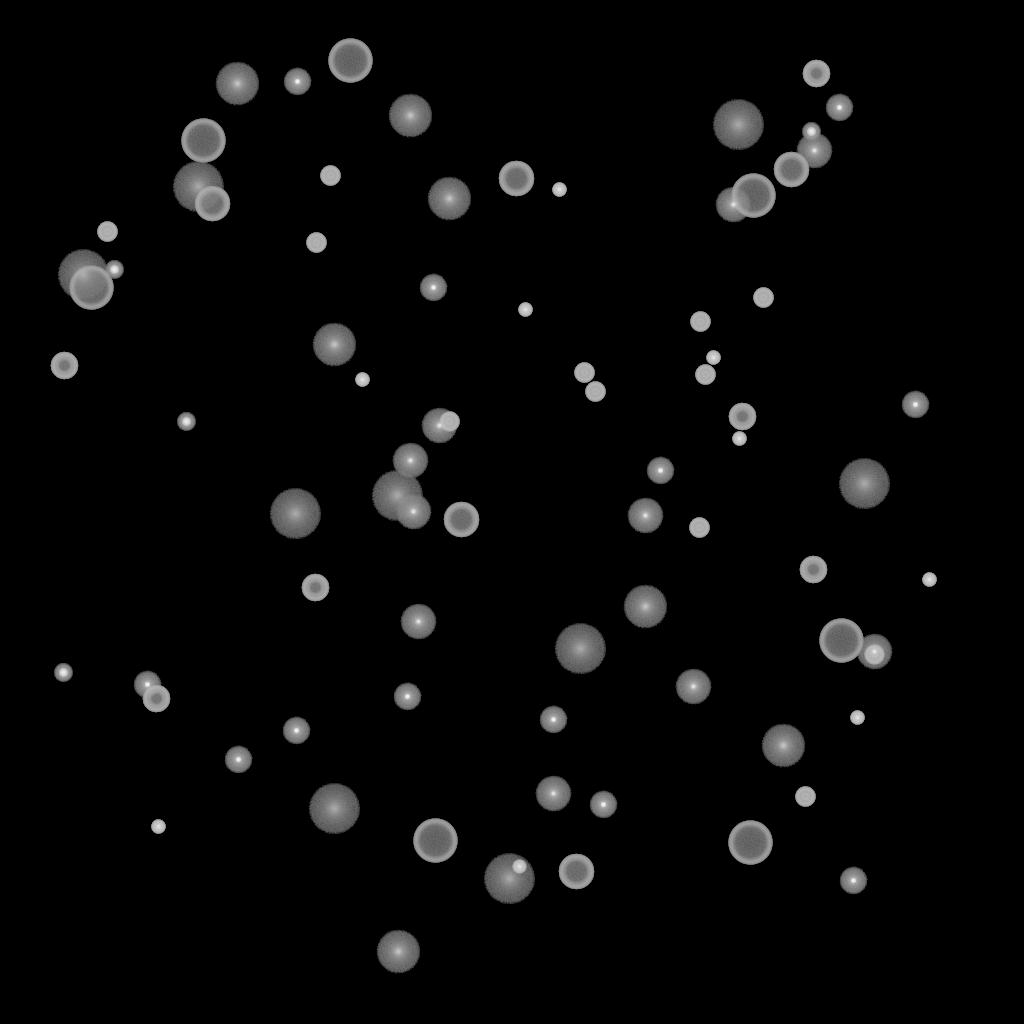depth:-10: (419, 274, 447, 302), (393, 683, 421, 711), (282, 717, 310, 745), (283, 68, 311, 96), (839, 867, 867, 895), (825, 94, 853, 122), (589, 791, 617, 819), (224, 746, 252, 774), (539, 706, 567, 734), (133, 671, 161, 699), (901, 391, 929, 419), (646, 457, 674, 485)
depth:-20: (54, 664, 72, 682), (177, 413, 195, 431), (105, 261, 123, 279), (802, 123, 820, 141)
depth:-30: (151, 820, 165, 834), (706, 351, 720, 365), (518, 303, 532, 317), (552, 183, 566, 197), (512, 860, 526, 874), (732, 432, 746, 446), (922, 573, 936, 587), (850, 711, 864, 725), (355, 373, 369, 387)
depth:-40: (439, 412, 459, 432), (689, 518, 709, 538), (320, 166, 340, 186), (574, 363, 594, 383), (795, 787, 815, 807), (585, 382, 605, 402), (753, 288, 773, 308), (306, 233, 326, 253), (97, 222, 117, 242), (690, 312, 710, 332), (864, 645, 884, 665), (695, 365, 715, 385)
depth:-50: (799, 556, 827, 584), (50, 352, 78, 380), (728, 403, 756, 431), (301, 574, 329, 602), (802, 60, 830, 88), (142, 685, 170, 713)
depth:-60: (773, 152, 809, 188), (558, 854, 594, 890), (194, 186, 230, 222), (443, 502, 479, 538), (498, 161, 534, 197)
depth:-70: (69, 266, 113, 310), (413, 819, 457, 863), (728, 821, 772, 865), (181, 119, 225, 163), (731, 174, 775, 218), (328, 39, 372, 83), (819, 619, 863, 663)
depth:0: (856, 634, 892, 670), (395, 494, 431, 530), (400, 604, 436, 640), (627, 498, 663, 534), (421, 408, 457, 444), (715, 187, 751, 223), (675, 669, 711, 705), (535, 776, 571, 812), (392, 443, 428, 479), (796, 133, 832, 169)
depth:10: (388, 94, 432, 138), (215, 62, 259, 106), (376, 930, 420, 974), (761, 724, 805, 768), (623, 585, 667, 629), (427, 177, 471, 221), (312, 323, 356, 367)
depth:20: (712, 100, 764, 150), (57, 250, 109, 300), (371, 471, 423, 521), (554, 624, 606, 674), (269, 489, 321, 539), (308, 784, 360, 834), (838, 459, 890, 509), (483, 854, 535, 904), (172, 162, 224, 212)
